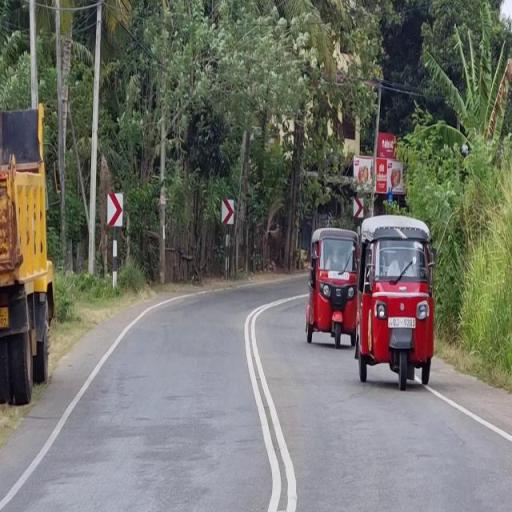double_white_line: (242, 296, 296, 510)
